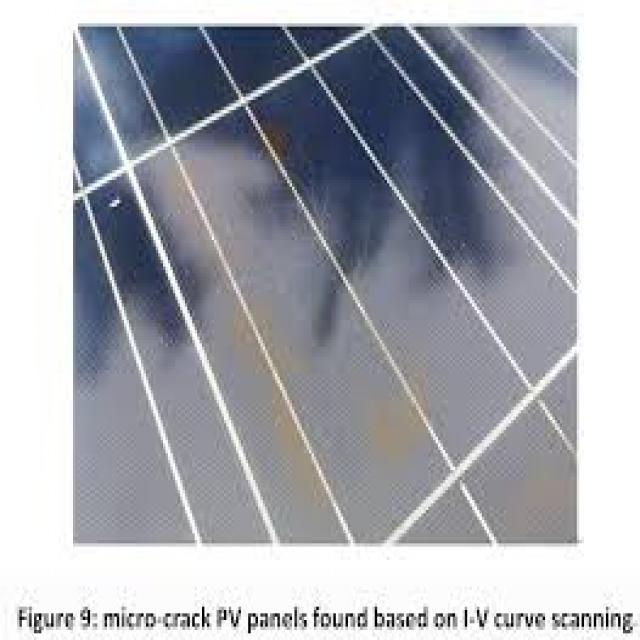faulty: (68, 30, 576, 545)
